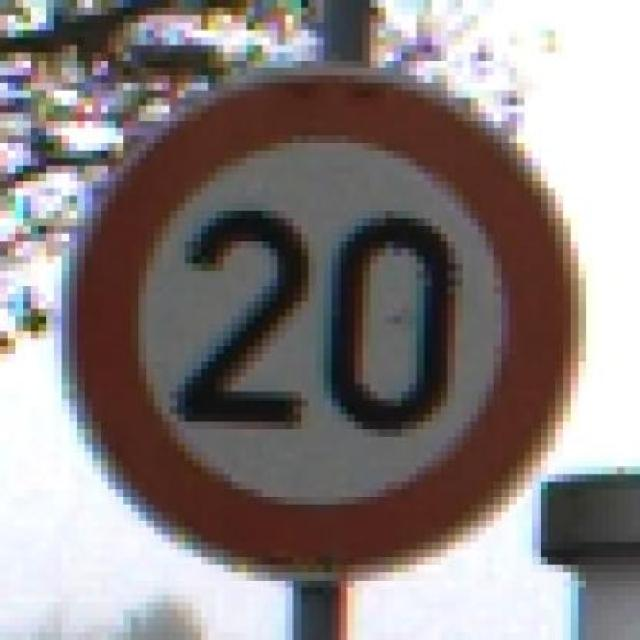forb_speed_over_20: (70, 68, 579, 570)
